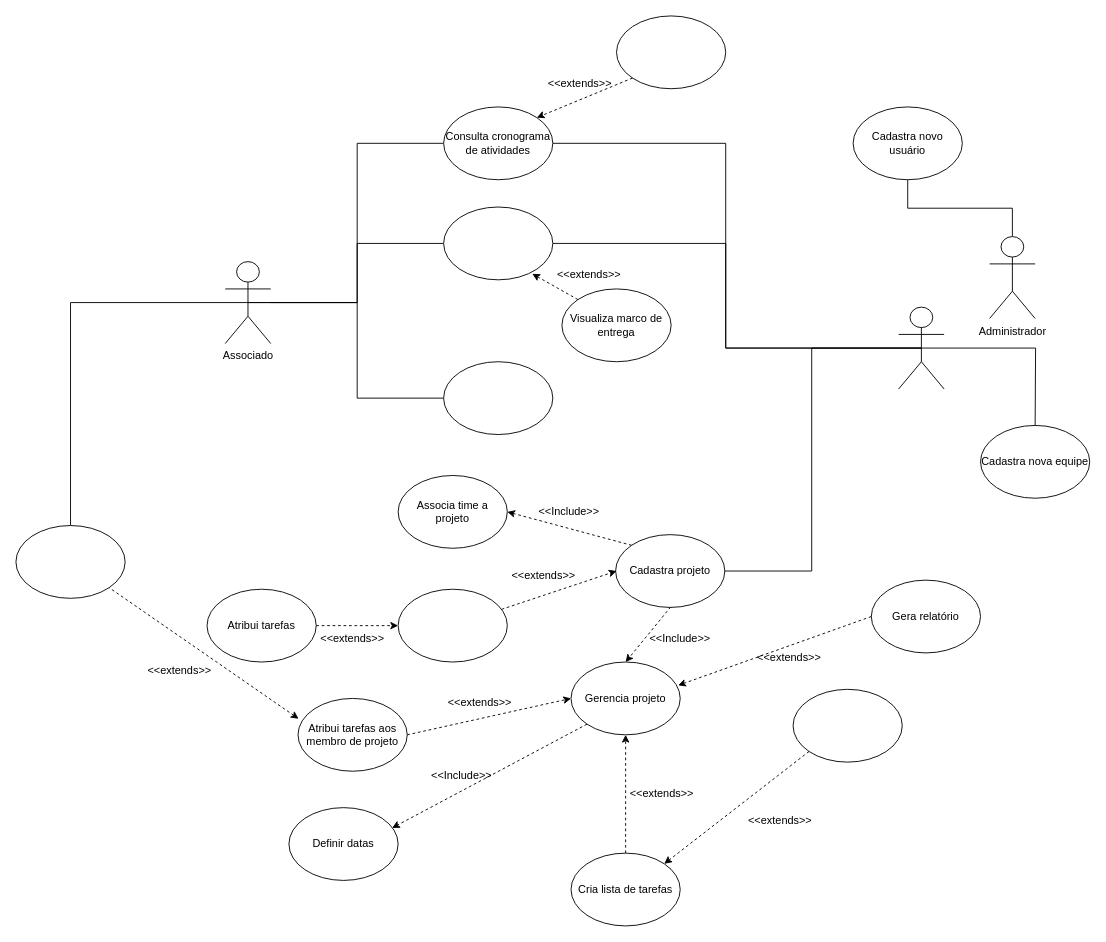
This 1106x942 diagram has some shape labels left out. The shapes that lost their labels are listed below. From the top down, each one's centre as x and y in pixels, then its label:
At point (671, 52): "Recebe notificação de atraso".
At point (498, 243): "Visualiza status de atividades".
At point (921, 347): "Gestor".
At point (498, 398): "Visualiza status do projeto".
At point (70, 561): "Atualiza informações de tarefas".
At point (452, 625): "Cadastra marco de projeto".
At point (847, 725): "Priorizar tarefas".
